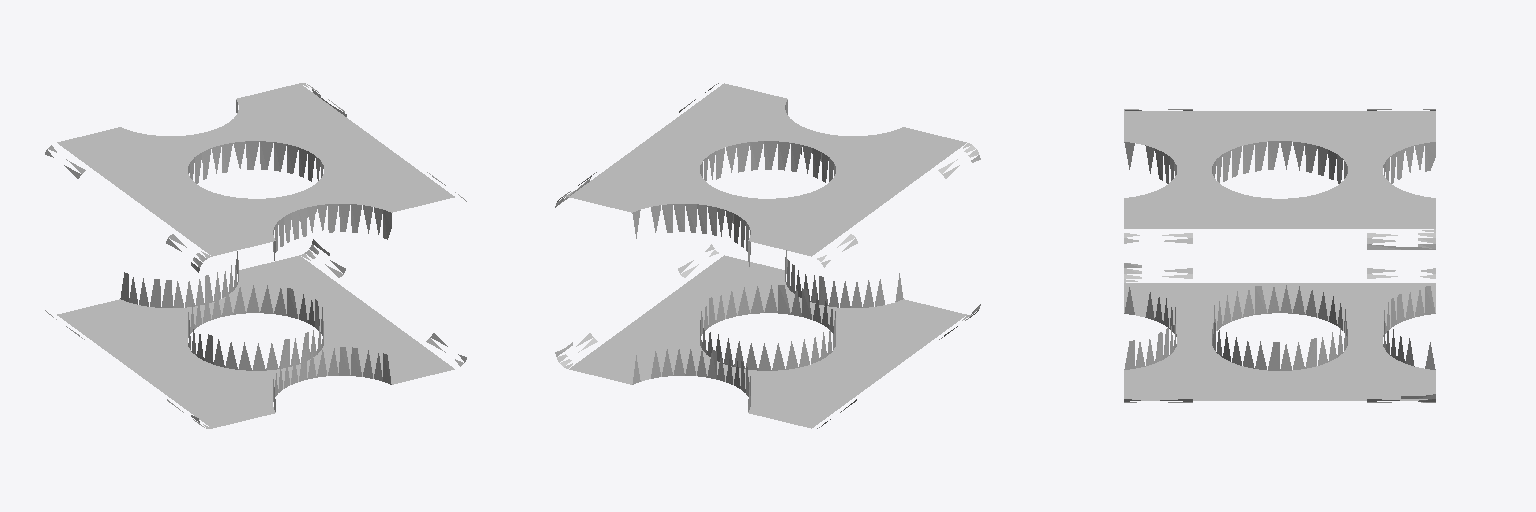
The model's file is HalfBrickMesh.obj.
3 renders of one model, left to right at view 1: azimuth 30°, elevation 25°; view 2: azimuth 150°, elevation 25°; view 3: azimuth 270°, elevation 25°, orthographic.
Size of the model in its own units: 0.1025 by 0.0625 by 0.1025.